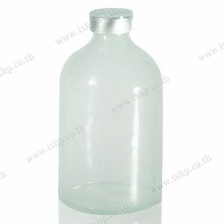bottle: (52, 5, 170, 216)
